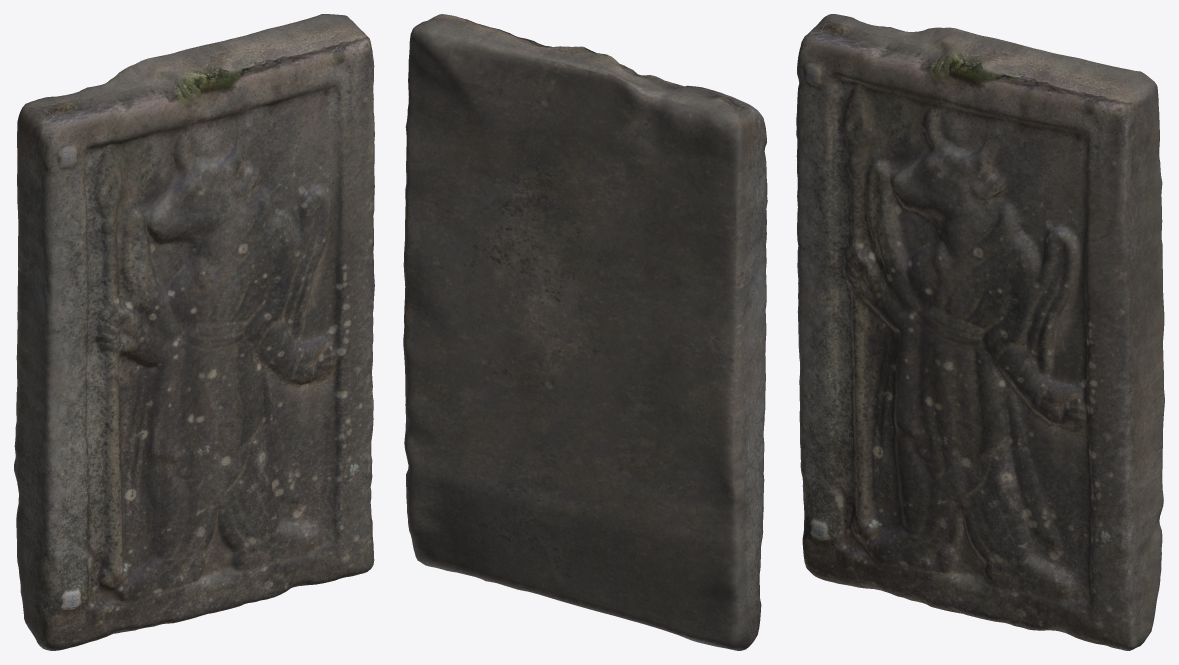
3 views of the same model, side by side, from view 1: azimuth 30°, elevation 25°; view 2: azimuth 150°, elevation 25°; view 3: azimuth 330°, elevation 25° (orthographic). The views are drawn at different scales.
Visible parts, largest first — view 1: Object_2; view 2: Object_2; view 3: Object_2.
Part boxes in pixels (x1,y1,x2,y2): Object_2: (14, 14, 374, 650); Object_2: (403, 14, 767, 650); Object_2: (796, 14, 1164, 650).
Bounding box in the file's own units: 0.6185 × 0.9746 × 0.1397.
1 material, 1 textured.
